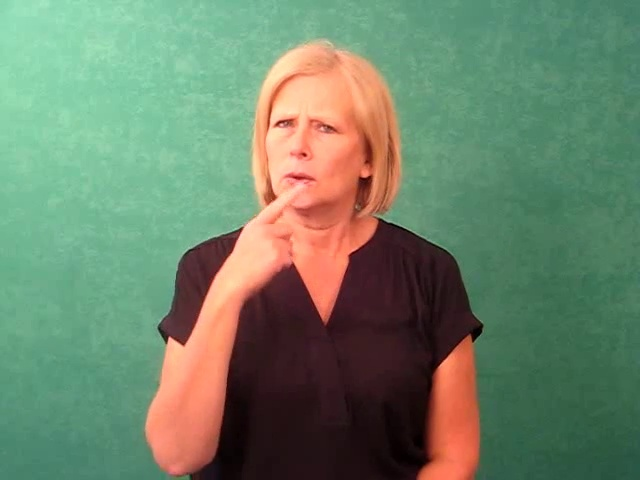who: (219, 178, 314, 297)
